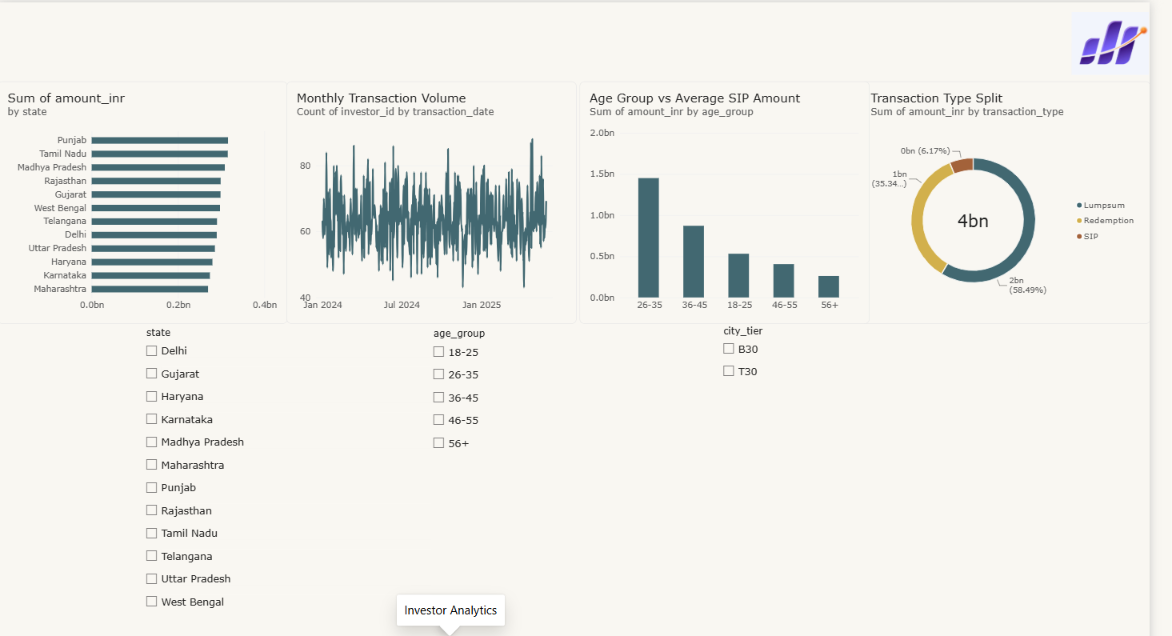

The dashboard page shown, as its layout file describes it:
{"tool":"powerbi","page":{"name":"Investor Analytics","canvas":[1920,1080],"ordinal":3},"visuals":[{"type":"clusteredBarChart","fields":{"Category":["investor_transactions.state"],"Y":["Sum(investor_transactions.amount_inr)"]},"box":[0,132,482.9,404.3],"z":0},{"type":"donutChart","title":"Transaction Type Split","fields":{"Category":["investor_transactions.transaction_type"],"Y":["Sum(investor_transactions.amount_inr)"]},"box":[1438,132,482.9,404.3],"z":1000},{"type":"clusteredColumnChart","title":"Age Group vs Average SIP Amount","fields":{"Category":["investor_transactions.age_group"],"Y":["Sum(investor_transactions.amount_inr)"]},"box":[970,132,482.9,404.3],"z":2000},{"type":"lineChart","title":"Monthly Transaction Volume","fields":{"Category":["investor_transactions.transaction_date"],"Y":["CountNonNull(investor_transactions.investor_id)"]},"box":[482,132,482.9,404.3],"z":3000},{"type":"slicer","fields":{"Values":["investor_transactions.state"]},"box":[240,540,482.5,480],"z":4000},{"type":"slicer","fields":{"Values":["investor_transactions.age_group"]},"box":[718,542,482.5,477.5],"z":5000},{"type":"slicer","fields":{"Values":["investor_transactions.city_tier"]},"box":[1202,536,500,487.5],"z":6000},{"type":"image","box":[1790,0,128.8,136.2],"z":7000}]}

Visuals, with their boxes on the page's 1920x1080 design canvas (x1, y1, x2, y2). These are canvas units, not pixel positions in the 1172x636 screenshot, which may show the page scaled, cropped or inside an application window:
clusteredBarChart - investor_transactions.state x Sum(investor_transactions.amount_inr): <bbox>0, 132, 483, 536</bbox>
"Transaction Type Split" donutChart: <bbox>1438, 132, 1921, 536</bbox>
"Age Group vs Average SIP Amount" clusteredColumnChart: <bbox>970, 132, 1453, 536</bbox>
"Monthly Transaction Volume" lineChart: <bbox>482, 132, 965, 536</bbox>
slicer - investor_transactions.state: <bbox>240, 540, 722, 1020</bbox>
slicer - investor_transactions.age_group: <bbox>718, 542, 1200, 1020</bbox>
slicer - investor_transactions.city_tier: <bbox>1202, 536, 1702, 1024</bbox>
image: <bbox>1790, 0, 1919, 136</bbox>
